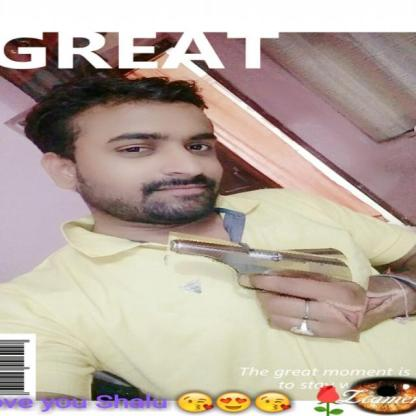handgun: (159, 240, 369, 336)
